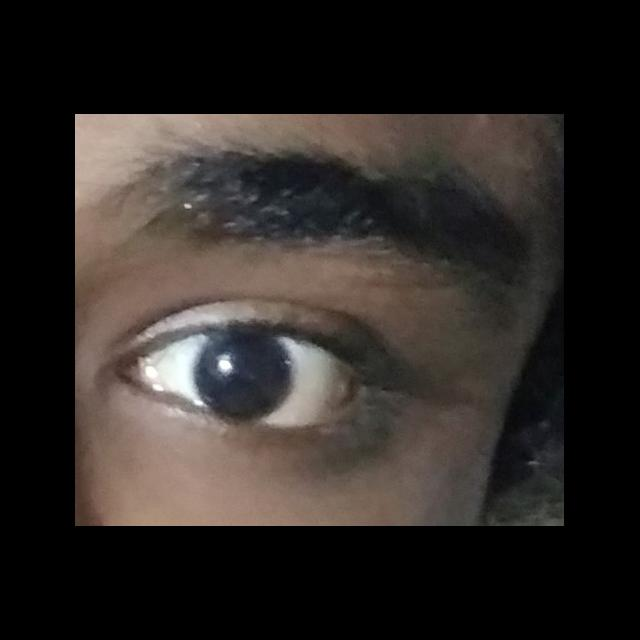eye: (147, 330, 353, 430)
iris: (195, 336, 295, 423)
